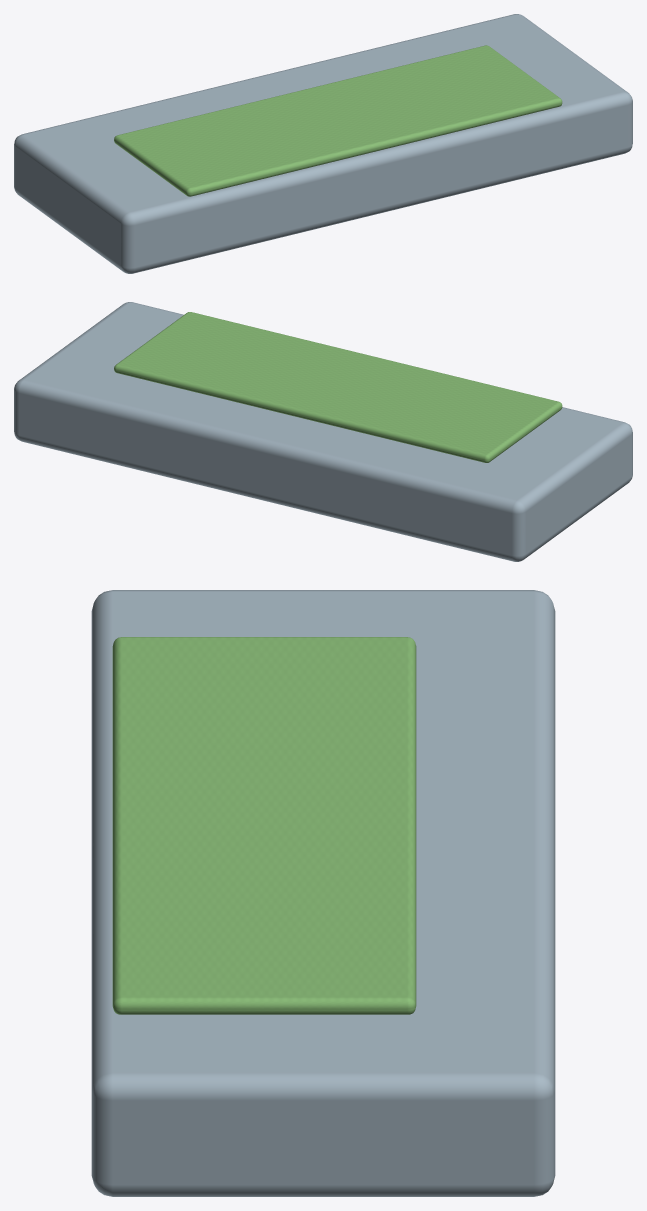
File: Doorstep.glb
3 renders of one model, top to bottom at view 1: azimuth 30°, elevation 25°; view 2: azimuth 150°, elevation 25°; view 3: azimuth 270°, elevation 25°, orthographic. The views are drawn at different scales.
Visible parts, largest first — view 1: Doorstep; view 2: Doorstep; view 3: Doorstep.
Part boxes in pixels (bbox=[...]): Doorstep: bbox=[14, 14, 632, 273]; Doorstep: bbox=[14, 302, 632, 561]; Doorstep: bbox=[91, 590, 555, 1196].
Size of the model in its own units: 1.4 by 0.1795 by 0.55.
2 materials, 1 textured.
